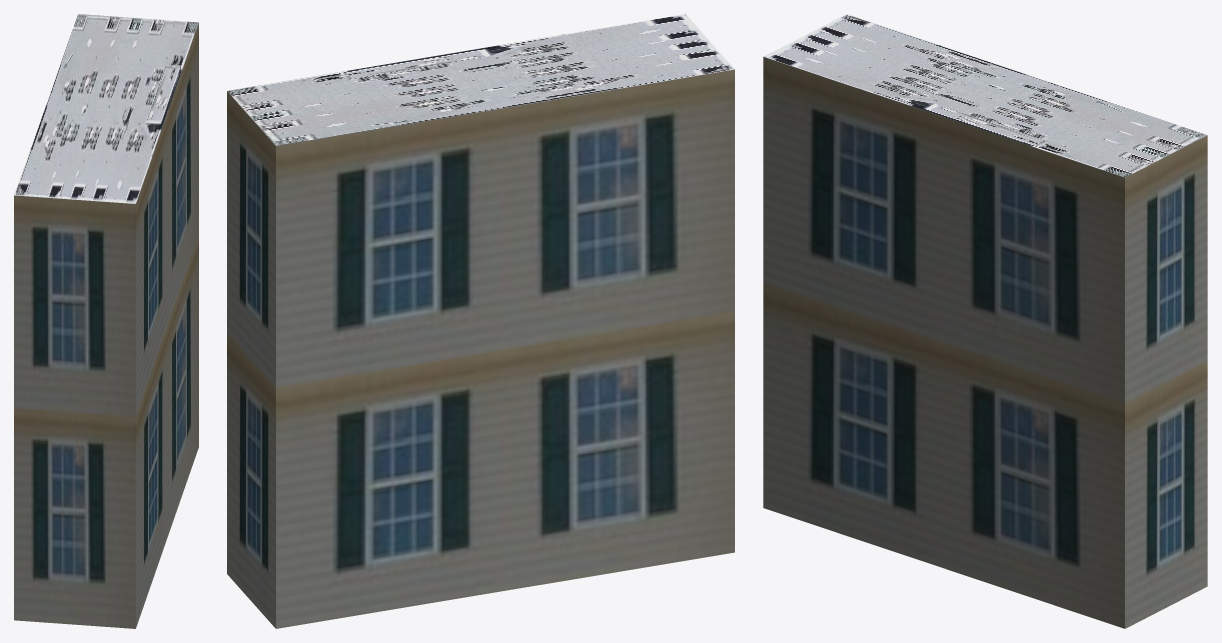
The model's file is ResTex__2127.fbx.
3 renders of one model, left to right at view 1: azimuth 30°, elevation 25°; view 2: azimuth 150°, elevation 25°; view 3: azimuth 270°, elevation 25°, orthographic. The views are drawn at different scales.
Parts seen in each view (by area): view 1: CityEngineMaterial_7_m, CityEngineMaterial_m; view 2: CityEngineMaterial_7_m, CityEngineMaterial_m; view 3: CityEngineMaterial_7_m, CityEngineMaterial_m.
Part boxes in pixels (x1,y1,x2,y2): CityEngineMaterial_7_m: (14,23,198,628); CityEngineMaterial_m: (14,14,198,203); CityEngineMaterial_7_m: (227,69,734,628); CityEngineMaterial_m: (227,14,734,145); CityEngineMaterial_7_m: (763,57,1207,628); CityEngineMaterial_m: (764,14,1206,177).
Bounding box in the file's own units: 4.67 × 6 × 5.35.
2 materials, 2 textured.
